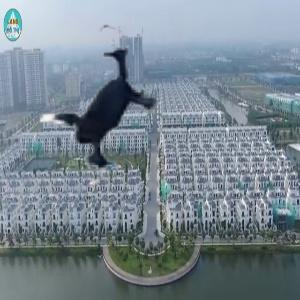drone: (8, 18, 190, 200)
